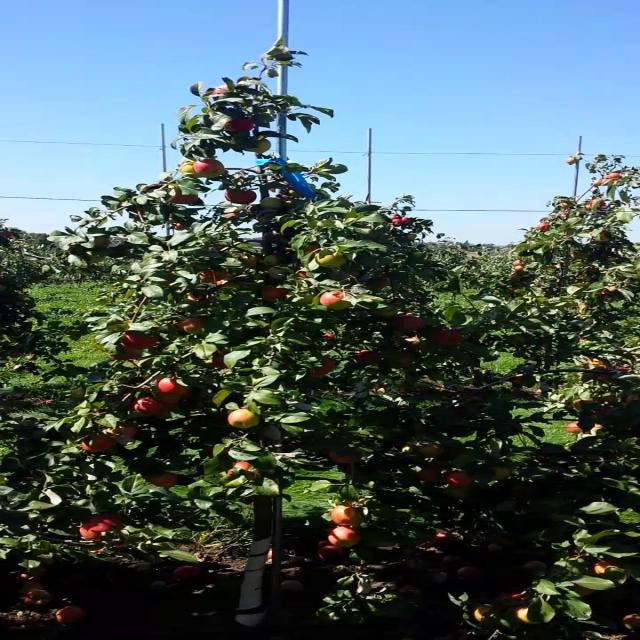apple: (77, 516, 128, 541), (319, 292, 356, 312), (596, 560, 633, 580), (333, 508, 368, 528), (120, 336, 156, 355), (77, 436, 114, 454), (227, 412, 263, 430), (198, 160, 228, 180), (333, 528, 363, 548), (326, 448, 361, 465), (433, 328, 464, 347), (127, 332, 158, 351), (227, 464, 263, 480), (156, 380, 192, 395), (148, 472, 181, 488), (134, 400, 165, 417), (227, 188, 256, 205), (397, 316, 427, 332), (518, 608, 546, 625), (312, 360, 338, 378), (319, 252, 348, 268), (447, 472, 476, 488), (604, 368, 633, 384), (319, 544, 347, 560), (177, 320, 208, 334), (113, 424, 140, 439), (419, 444, 446, 459), (198, 272, 231, 284), (262, 288, 292, 301), (419, 468, 443, 484), (113, 348, 140, 361), (227, 120, 256, 132), (170, 192, 199, 204), (604, 368, 633, 380), (447, 488, 475, 500), (177, 164, 199, 179), (156, 396, 185, 407), (248, 140, 272, 153), (490, 468, 514, 481), (589, 408, 613, 421), (355, 352, 380, 364), (212, 352, 228, 369), (589, 360, 608, 374), (376, 308, 400, 319), (397, 336, 421, 347), (476, 608, 492, 624), (518, 608, 533, 625), (575, 584, 596, 596), (575, 400, 596, 411), (262, 256, 281, 268), (241, 256, 260, 268), (397, 356, 414, 369), (262, 200, 284, 209), (305, 244, 320, 254), (376, 280, 393, 288), (212, 88, 228, 96), (99, 240, 114, 248), (570, 424, 583, 433), (604, 396, 619, 403), (227, 212, 240, 220), (625, 396, 638, 403), (177, 224, 185, 232)
